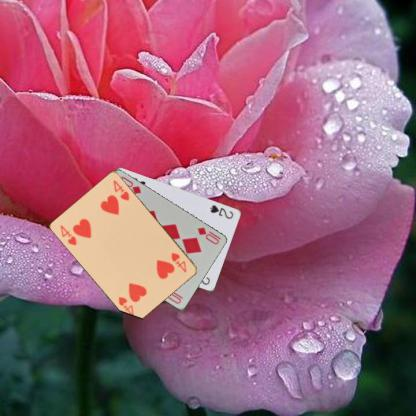10d: (195, 224, 222, 246)
2s: (208, 202, 235, 220)
4h: (58, 222, 78, 247), (168, 249, 187, 274)
